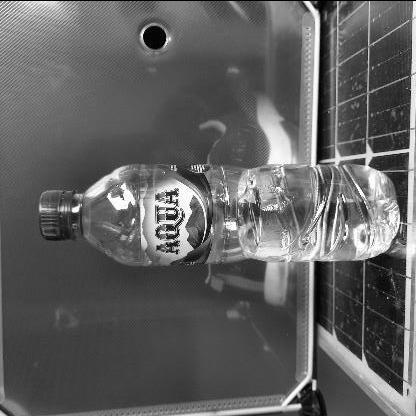plastic_bottles: (36, 160, 401, 269)
